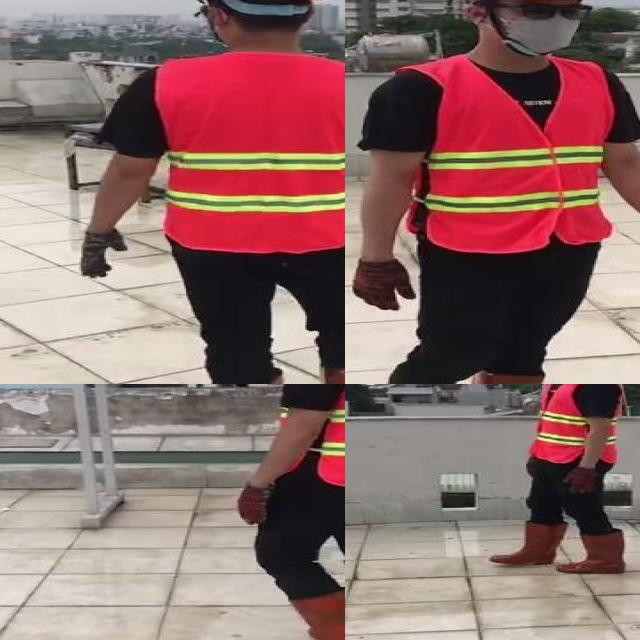boots: (491, 523, 568, 567), (285, 591, 345, 640), (560, 533, 629, 573)
face_mask: (494, 0, 588, 54)
glasses: (508, 0, 595, 23)
hand_glove: (351, 261, 418, 310), (79, 230, 129, 277), (237, 484, 274, 524), (564, 468, 596, 495)
person: (345, 0, 640, 384), (75, 0, 345, 384), (229, 384, 345, 640), (487, 384, 640, 576)
vest: (413, 56, 615, 251), (156, 54, 345, 254), (527, 384, 620, 466), (279, 384, 345, 486)
